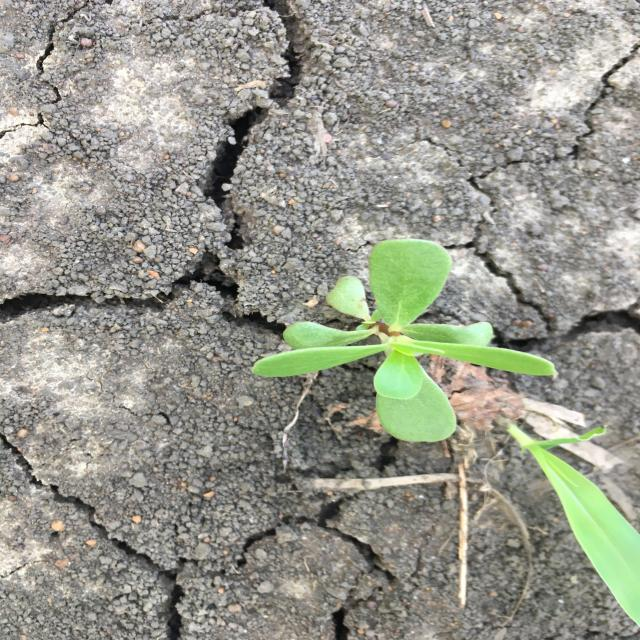Purslane: (250, 234, 560, 446)
